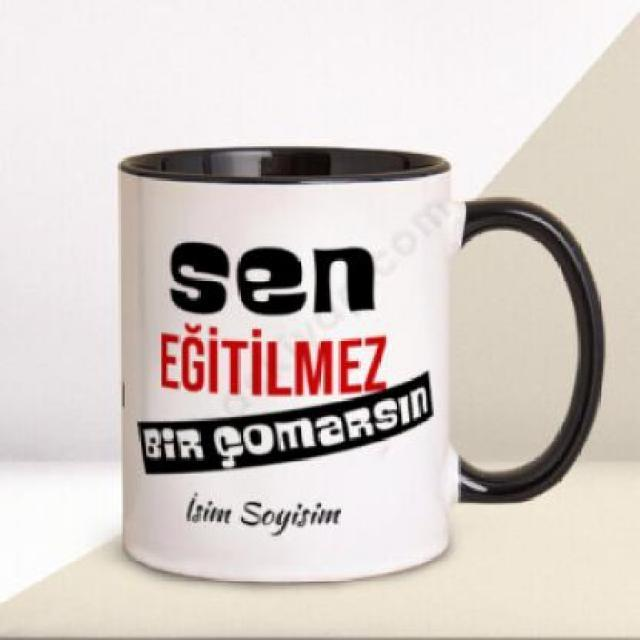taza: (112, 144, 603, 587)
